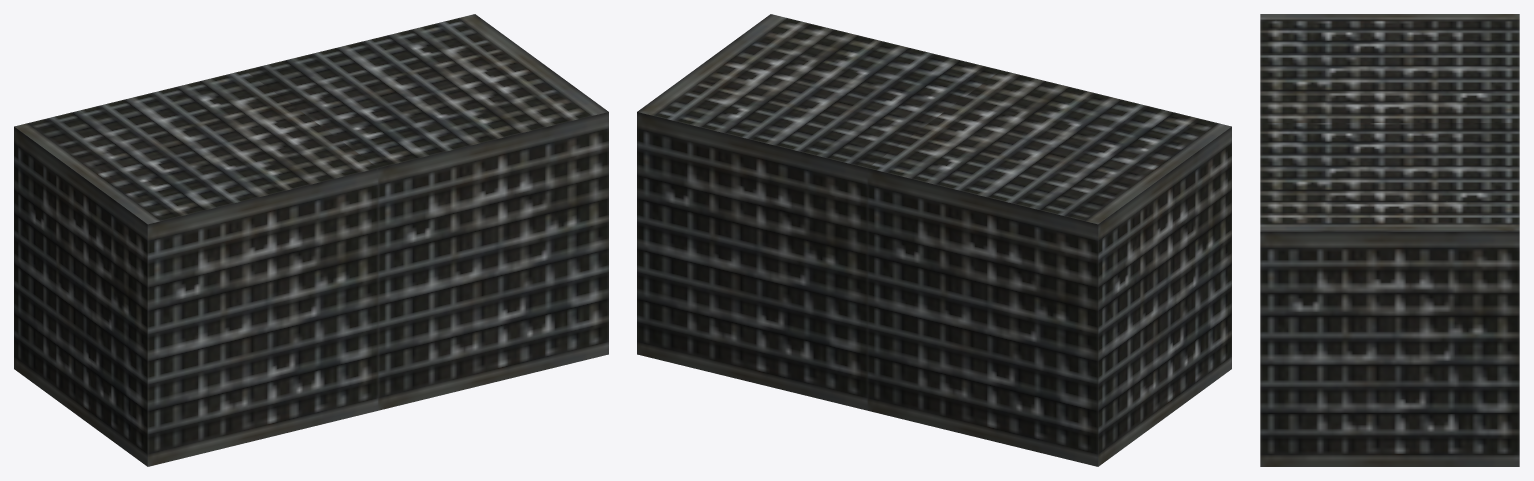
File: yw_xuesebingfeng_tielong02.FBX
3 renders of one model, left to right at view 1: azimuth 30°, elevation 25°; view 2: azimuth 150°, elevation 25°; view 3: azimuth 270°, elevation 25°, orthographic. The views are drawn at different scales.
Visible parts, largest first — view 1: yw_xuesebingfeng_tielong02; view 2: yw_xuesebingfeng_tielong02; view 3: yw_xuesebingfeng_tielong02.
Boxes of the visible parts, box(x1,y1,x2,y2) form: yw_xuesebingfeng_tielong02: box(14, 14, 608, 466); yw_xuesebingfeng_tielong02: box(637, 14, 1231, 466); yw_xuesebingfeng_tielong02: box(1260, 14, 1519, 466).
Bounding box in the file's own units: 630 × 317 × 317.
